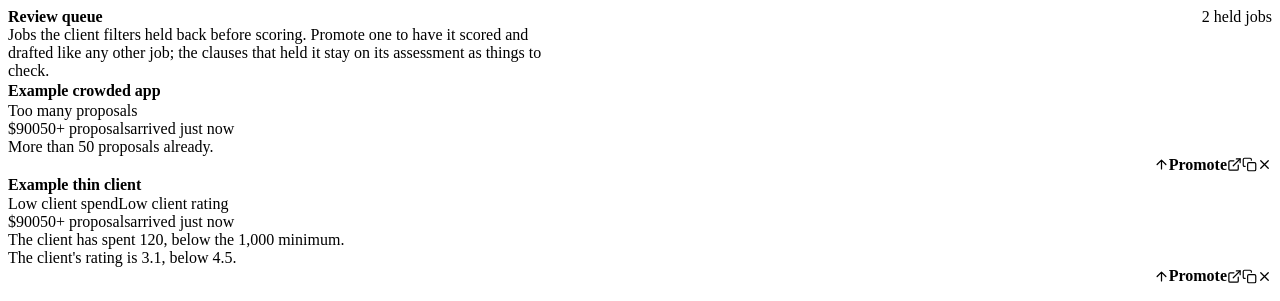
it: the review queue › dismisses through the transition, as the queue does
Click the button named "Dismiss Example thin client (move to Passed)": (1264, 276) 1257,269 -> 1272,284
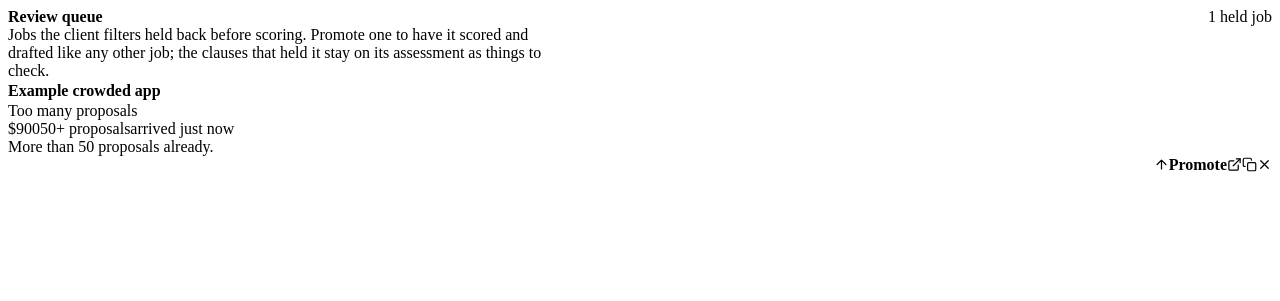
Expected: the text "1 held job" is shown, 1208,8 -> 1272,26
